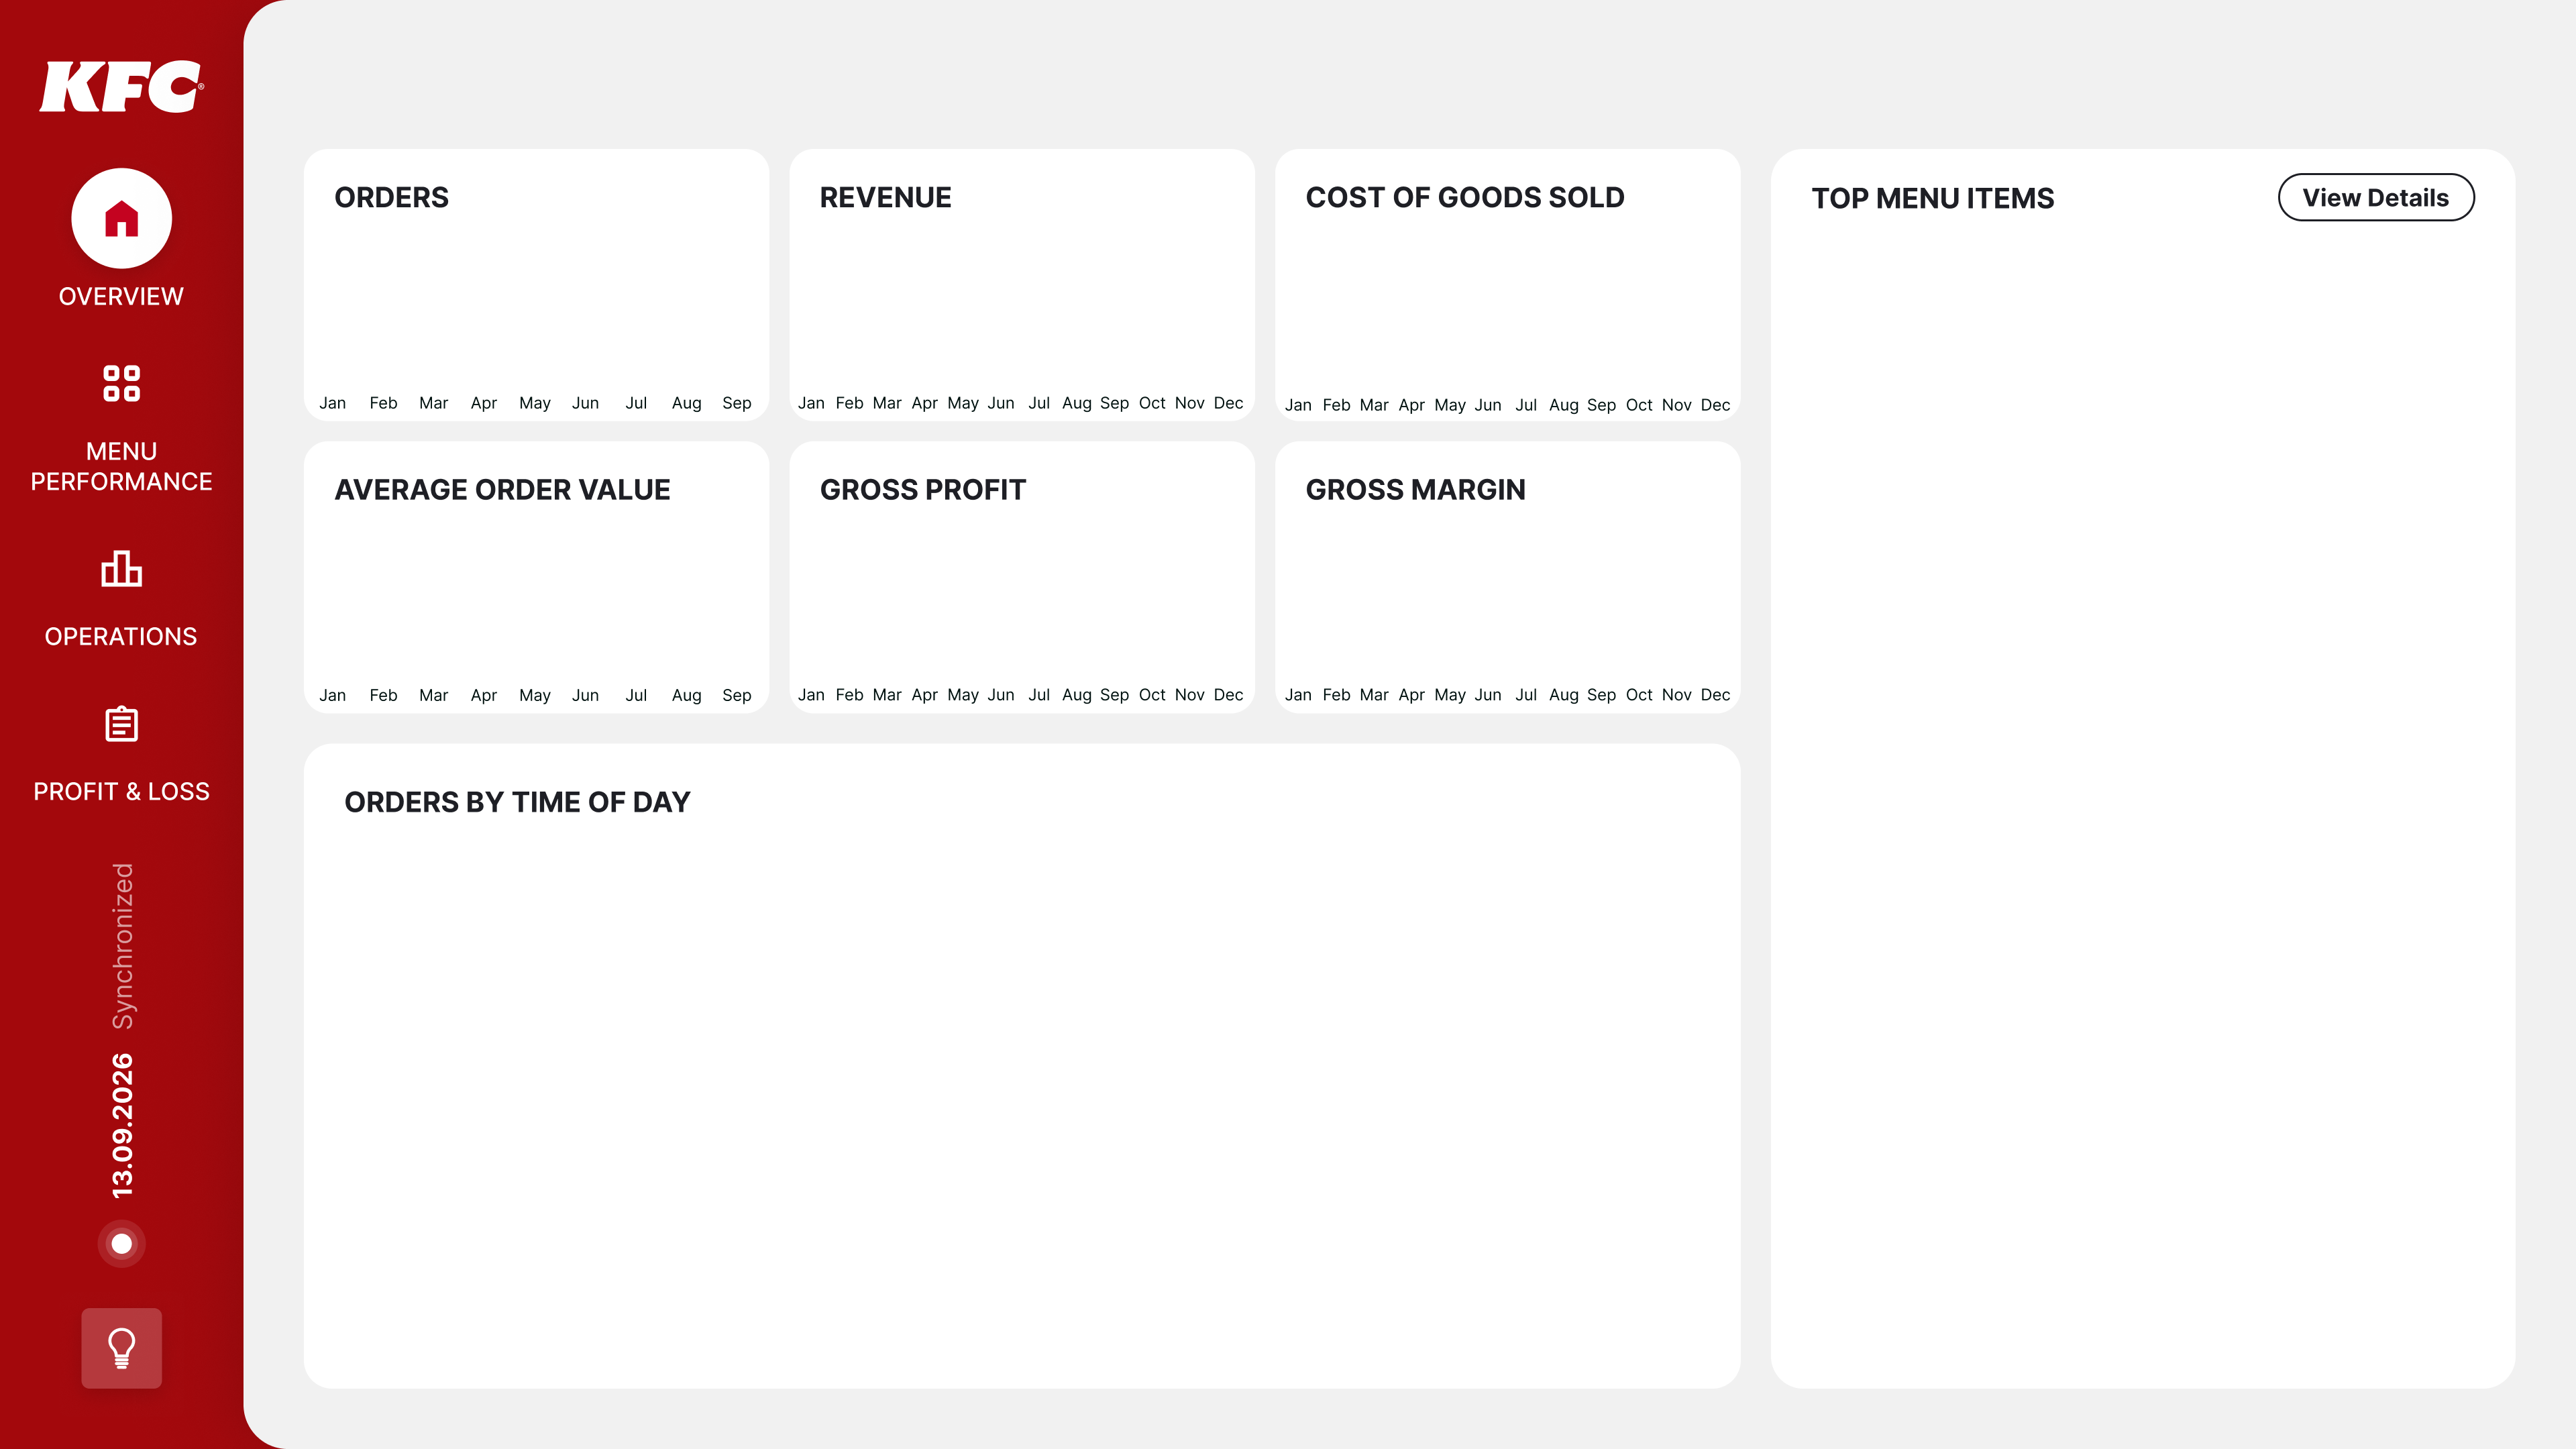

Layout of this report page (visuals, bound fields, positions):
{"tool":"powerbi","page":{"name":"Executive Summary","canvas":[1280,720],"ordinal":0},"visuals":[{"type":"lineChart","fields":{"Category":["2 Calendar.Month Short"],"Y":["KPI's.AVG Order Value"]},"box":[146.3,263.9,241.5,77.2],"z":0},{"type":"lineChart","fields":{"Category":["2 Calendar.Month Short"],"Y":["KPI's.Act Cost","KPI's.Bud Cost"]},"box":[624.8,127.5,251.4,77.2],"z":1000},{"type":"lineChart","fields":{"Category":["2 Calendar.Month Short"],"Y":["KPI's.Act Profit","KPI's.Bud Profit"]},"box":[382.4,264.8,251.4,77.2],"z":3000},{"type":"lineChart","fields":{"Category":["2 Calendar.Month Short"],"Y":["KPI's.Act Margin","KPI's.Bud Margin"]},"box":[623.9,268.4,251.4,77.2],"z":4000},{"type":"clusteredColumnChart","fields":{"Category":["Sales.Hour"],"Y":["Sum(Sales.Income)"]},"box":[154.4,398.6,706.5,287.3],"z":5000},{"type":"clusteredBarChart","fields":{"Category":["Sales.MenuItem"],"Y":["Sum(Sales.Income)"]},"box":[879.8,113.1,371.7,580],"z":6000},{"type":"advancedSlicerVisual","fields":{"Values":["2 Calendar.Month Short"]},"box":[151.7,26.9,529.7,40.4],"z":7000},{"type":"advancedSlicerVisual","fields":{"Values":["2 View Selector.ViewType"]},"box":[1153.6,26.9,97.9,40.4],"z":8000},{"type":"lineChart","fields":{"Category":["2 Calendar.Month Short"],"Y":["KPI's.Number of Orders"]},"box":[147.2,113.1,241.5,89.8],"z":9000},{"type":"lineChart","fields":{"Category":["2 Calendar.Month Short"],"Y":["KPI's.Act Revenue","KPI's.Bud Revenue"]},"box":[382.4,118.5,251.4,77.2],"z":10000},{"type":"cardVisual","title":"RS Delta","fields":{"Data":["KPI's.Revenue KPI Display"]},"box":[390.5,97.9,185.8,43.1],"z":11000},{"type":"cardVisual","title":"RS Delta","fields":{"Data":["KPI's.Cost KPI Display"]},"box":[632.9,97.9,185.8,43.1],"z":12000},{"type":"cardVisual","title":"RS Delta","fields":{"Data":["KPI's.Profit KPI Display"]},"box":[390.5,242.4,185.8,43.1],"z":13000},{"type":"cardVisual","title":"RS Delta","fields":{"Data":["KPI's.Margin KPI Display"]},"box":[632.9,242.4,185.8,43.1],"z":14000},{"type":"cardVisual","title":"RS Delta","fields":{"Data":["KPI's.Act Orders"]},"box":[149.9,97.9,185.8,43.1],"z":15000},{"type":"cardVisual","title":"RS Delta","fields":{"Data":["KPI's.AVG Order Value"]},"box":[149.9,242.4,185.8,43.1],"z":16000},{"type":"actionButton","box":[40,649.5,40.5,40.5],"z":17000}]}

Visuals, with their boxes in screenshot pixels (x1, y1, x2, y2):
lineChart - 2 Calendar.Month Short x KPI's.AVG Order Value: bbox(227, 523, 724, 682)
lineChart - 2 Calendar.Month Short x KPI's.Act Cost: bbox(1212, 242, 1729, 401)
lineChart - 2 Calendar.Month Short x KPI's.Act Profit: bbox(713, 525, 1230, 684)
lineChart - 2 Calendar.Month Short x KPI's.Act Margin: bbox(1210, 532, 1727, 691)
clusteredColumnChart - Sales.Hour x Sum(Sales.Income): bbox(244, 800, 1698, 1391)
clusteredBarChart - Sales.MenuItem x Sum(Sales.Income): bbox(1737, 213, 2502, 1406)
advancedSlicerVisual - 2 Calendar.Month Short: bbox(238, 36, 1328, 118)
advancedSlicerVisual - 2 View Selector.ViewType: bbox(2300, 36, 2502, 118)
lineChart - 2 Calendar.Month Short x KPI's.Number of Orders: bbox(229, 213, 726, 397)
lineChart - 2 Calendar.Month Short x KPI's.Act Revenue: bbox(713, 223, 1230, 382)
"RS Delta" cardVisual: bbox(730, 181, 1112, 270)
"RS Delta" cardVisual: bbox(1228, 181, 1611, 270)
"RS Delta" cardVisual: bbox(730, 479, 1112, 568)
"RS Delta" cardVisual: bbox(1228, 479, 1611, 568)
"RS Delta" cardVisual: bbox(235, 181, 617, 270)
"RS Delta" cardVisual: bbox(235, 479, 617, 568)
actionButton: bbox(9, 1316, 92, 1399)
